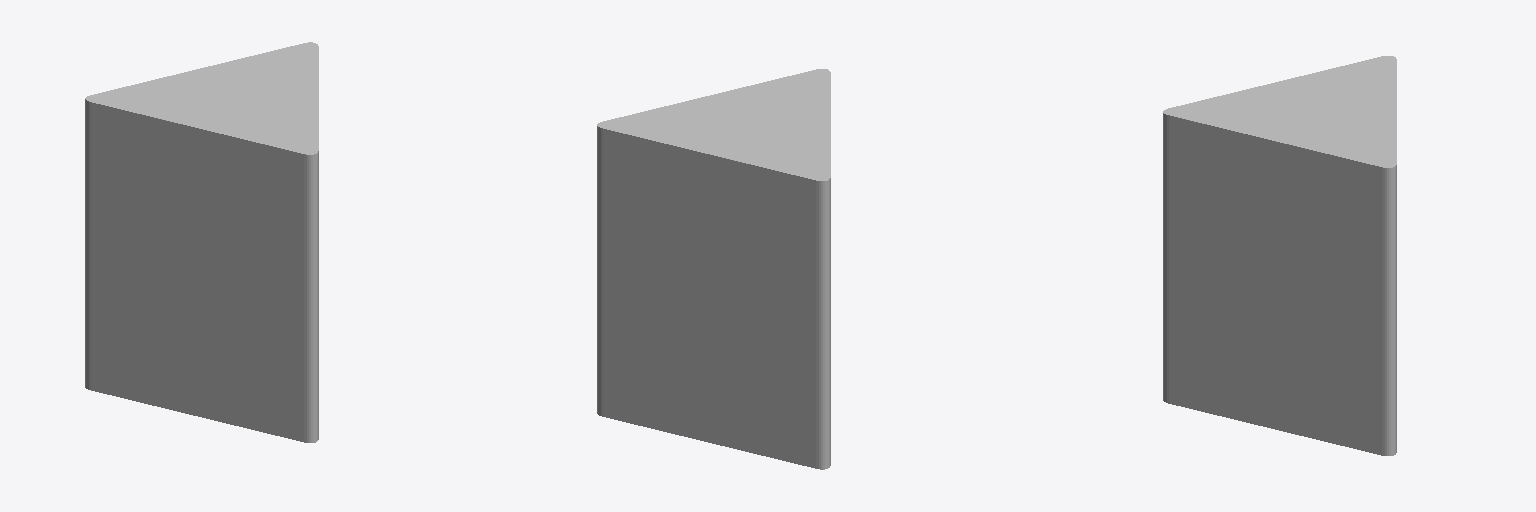
The model's file is prism.obj.
3 views of the same model, side by side, from view 1: azimuth 30°, elevation 25°; view 2: azimuth 150°, elevation 25°; view 3: azimuth 270°, elevation 25° (orthographic).
Parts seen in each view (by area): view 1: Cylinder; view 2: Cylinder; view 3: Cylinder.
Part boxes in pixels (x1,y1,x2,y2): Cylinder: (85,42,318,442); Cylinder: (597,69,830,469); Cylinder: (1163,56,1396,455).
Bounding box in the file's own units: 0.2443 × 0.2917 × 0.214.